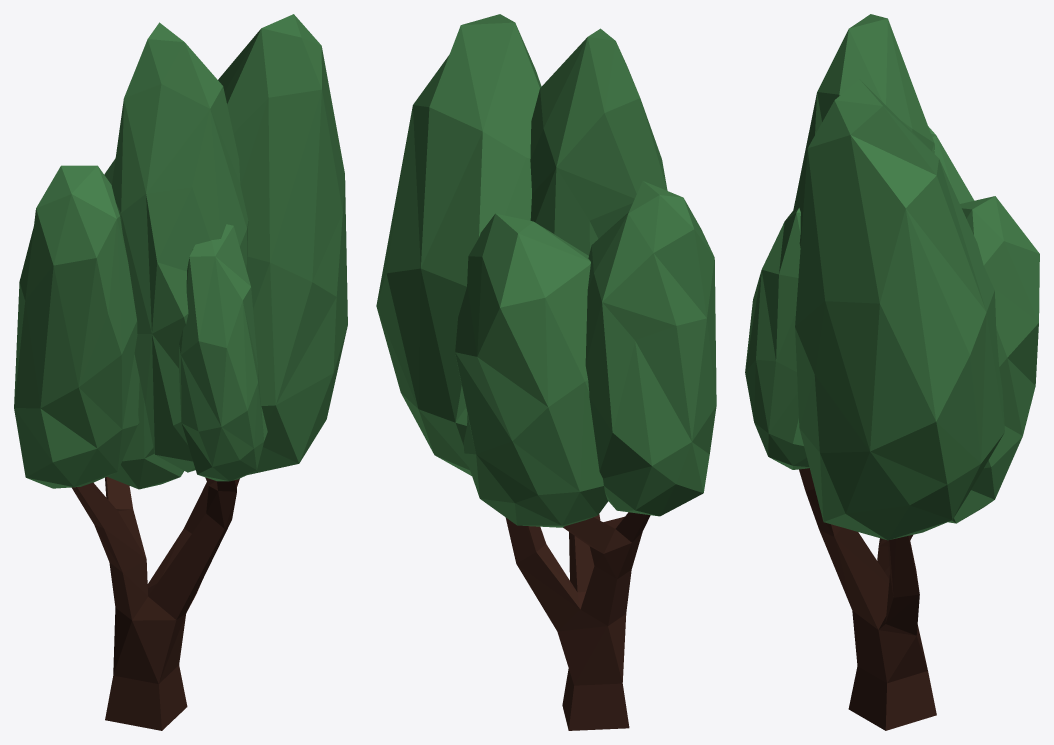
File: Tree_2 Asia.fbx
3 renders of one model, left to right at view 1: azimuth 30°, elevation 25°; view 2: azimuth 150°, elevation 25°; view 3: azimuth 270°, elevation 25°, orthographic. The views are drawn at different scales.
Parts seen in each view (by area): view 1: Tree_2; view 2: Tree_2; view 3: Tree_2.
Part boxes in pixels (x1,y1,x2,y2): Tree_2: [14, 14, 347, 730]; Tree_2: [376, 14, 716, 730]; Tree_2: [745, 14, 1039, 730].
Size of the model in its own units: 1.69 by 3.47 by 1.33.
